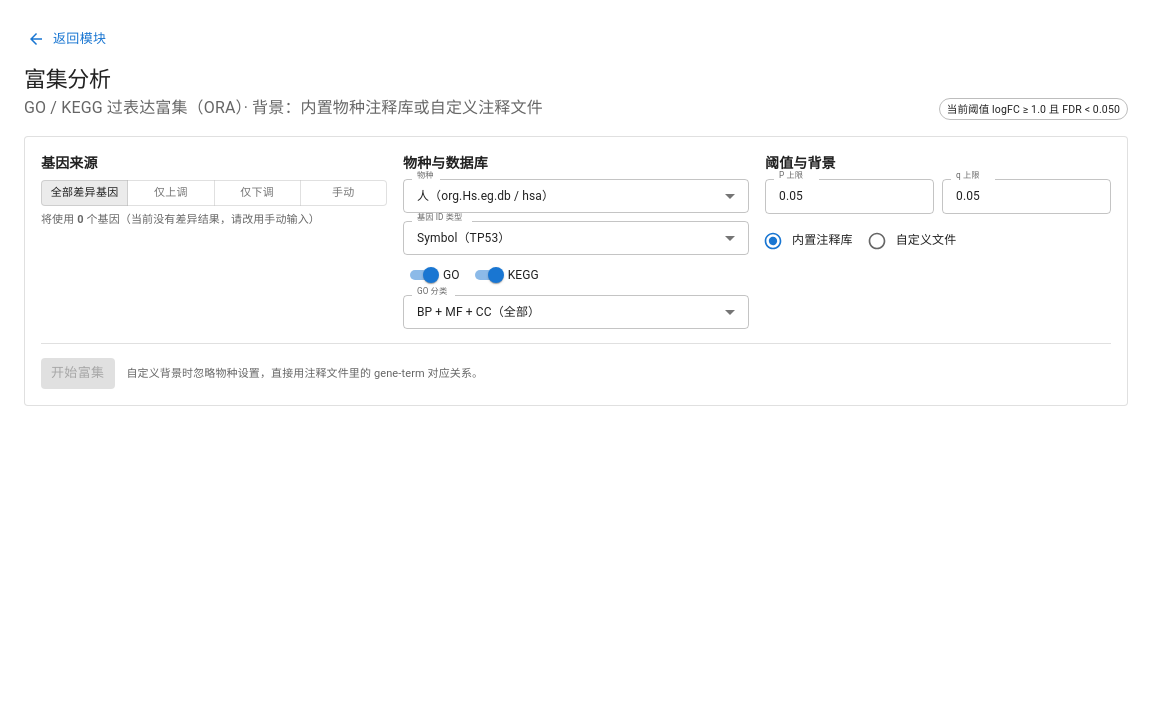
Scenario: EnrichPage 物种 / 背景联动 › 结果超过 500 条时，标题旁直接写明被截断
Click the button "手动": x=343, y=193 [300, 180, 387, 206]
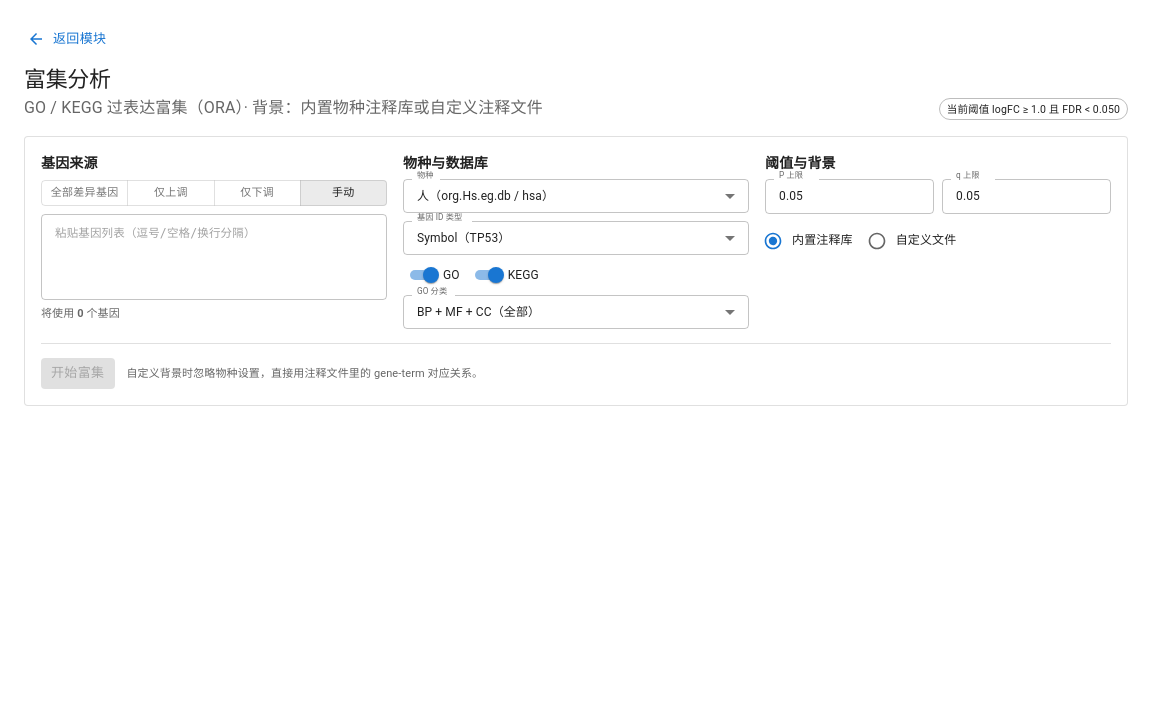
In the text box with placeholder "粘贴基因列表（逗号/空格/换行分隔）": x=214, y=257 [55, 222, 373, 291], type "g1 g2 g3"
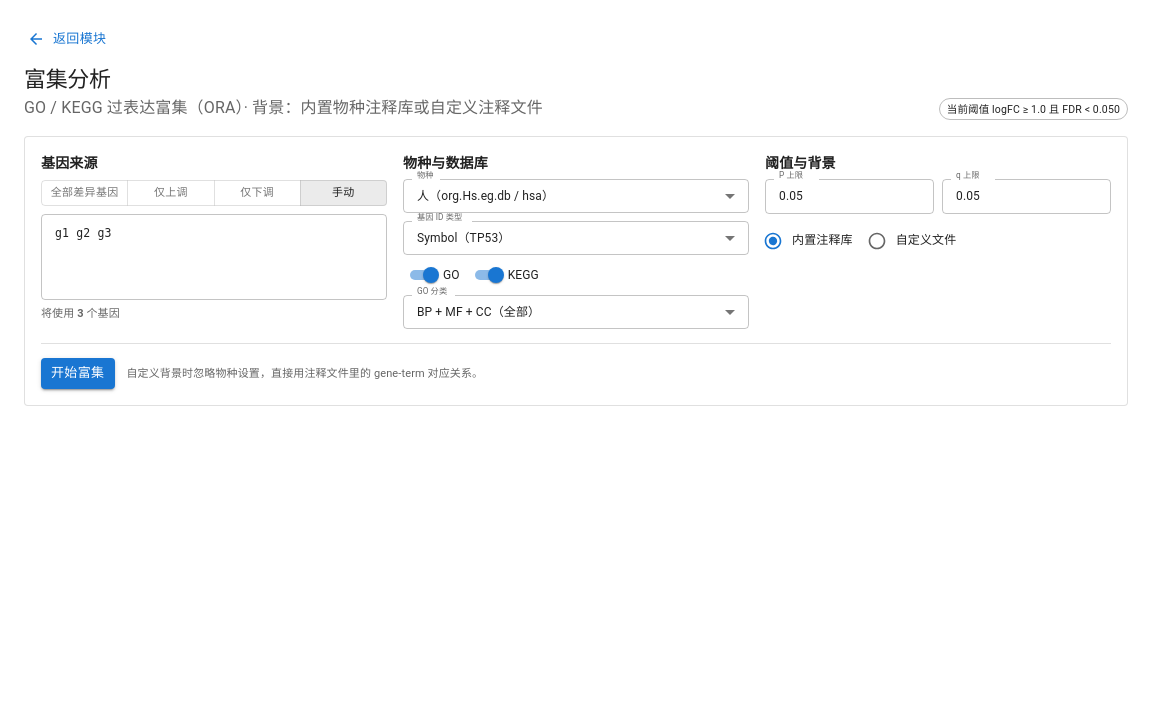
Click the button "开始富集": x=78, y=374 [41, 358, 114, 389]
(page scrolled)
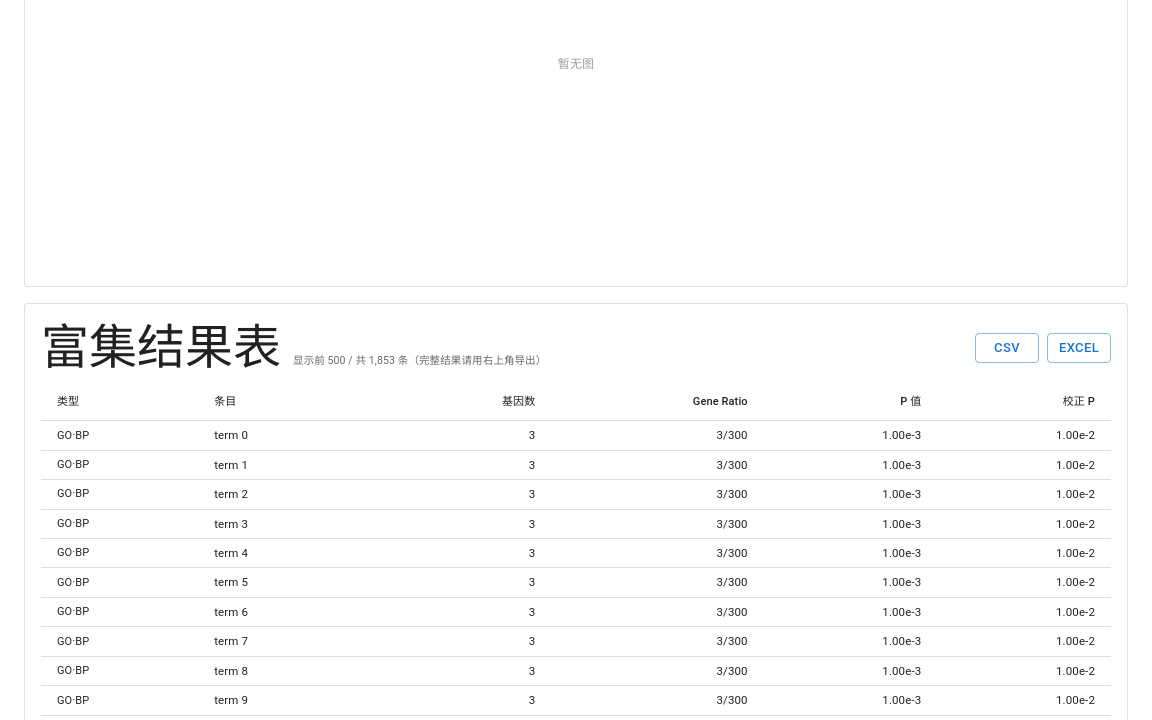
Expected: the text "显示前 500 / 共 1,853 条（完整结果请用右上角导出）" is shown, [293, 353, 546, 368]
